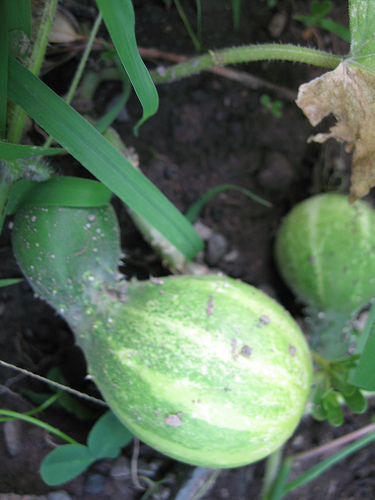cucumber: (11, 176, 316, 468), (275, 192, 373, 420)
